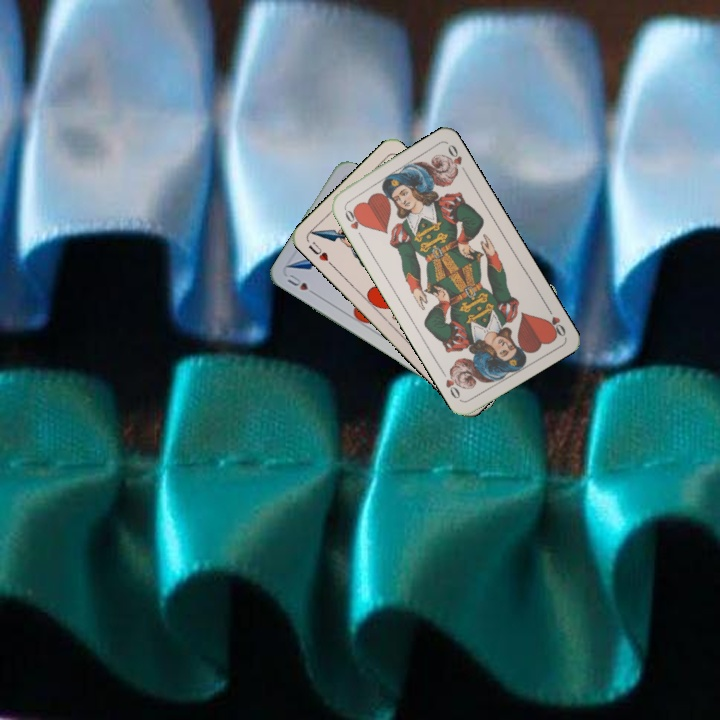HO: (340, 203, 366, 241), (542, 302, 568, 340)
HU: (283, 270, 320, 299), (304, 237, 336, 269)
